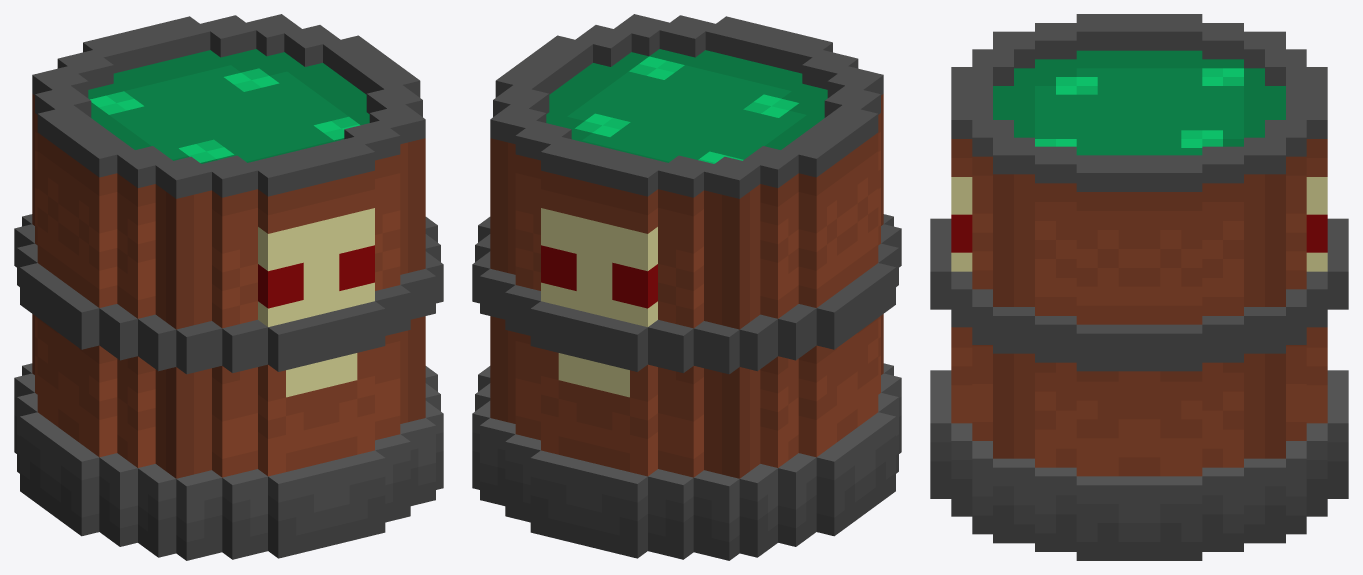
File: barrel-05.glb
3 views of the same model, side by side, from view 1: azimuth 30°, elevation 25°; view 2: azimuth 150°, elevation 25°; view 3: azimuth 270°, elevation 25° (orthographic).
Parts seen in each view (by area): view 1: Barrel 05; view 2: Barrel 05; view 3: Barrel 05.
Boxes of the visible parts, x1,y1,x2,y2 form: Barrel 05: (14,14,443,560); Barrel 05: (472,14,901,560); Barrel 05: (930,14,1348,560).
Bounding box in the file's own units: 1 × 1 × 1.
1 material, 1 textured.
